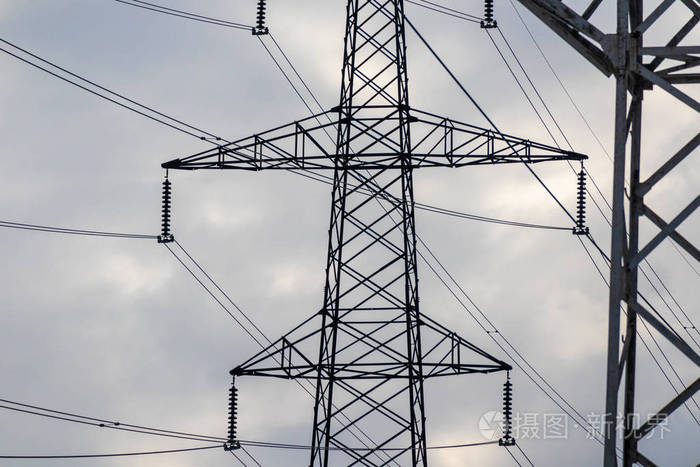insulator: (500, 381, 514, 443), (575, 171, 588, 229), (226, 389, 240, 442), (161, 179, 174, 236), (255, 1, 267, 28), (485, 1, 498, 20)
